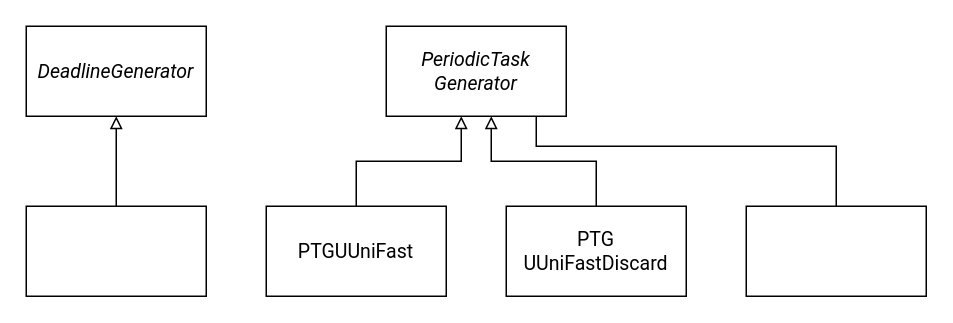
Some shapes in this 953 by 323 pixel diagram are drawn without their labels. The shapes that lost their labels are listed below. From the top down, each one's centre as x and y in pixels, then its label:
At [115,250]: "DGUniformInteger".
At [835,250]: "PeriodicGenerated Task".
